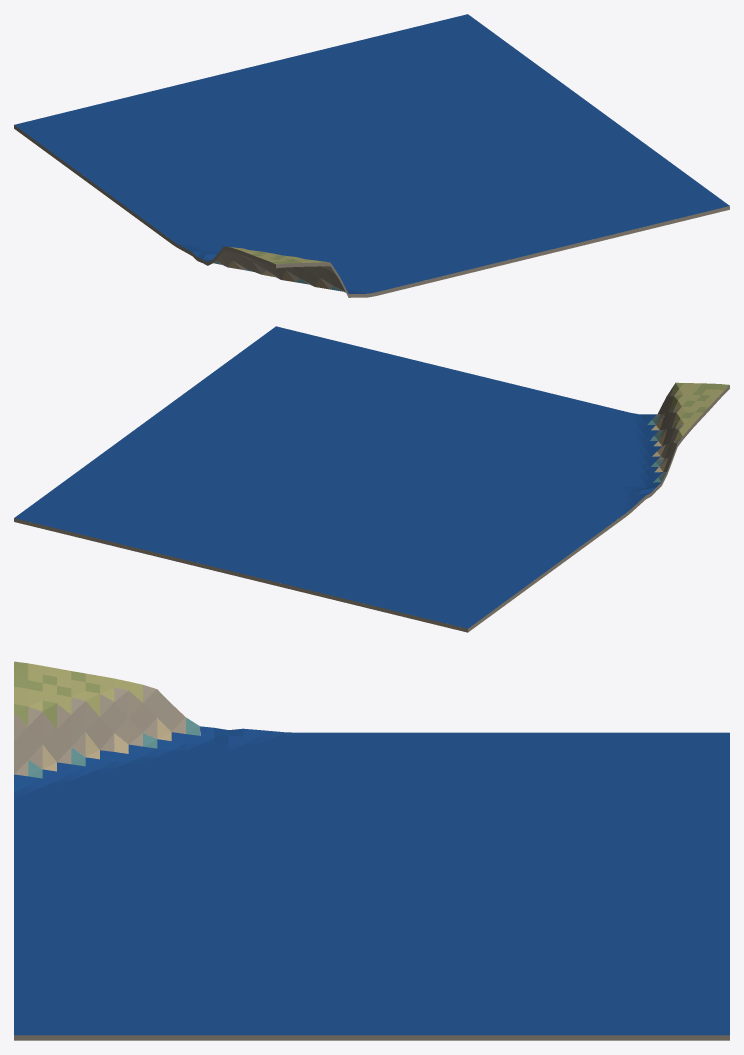
Rendered from parca_+12_+0-uzak.glb.
3 views of the same model, one above another, from view 1: azimuth 30°, elevation 25°; view 2: azimuth 150°, elevation 25°; view 3: azimuth 270°, elevation 25° (orthographic). The views are drawn at different scales.
Visible parts, largest first — view 1: parca_+12_+0_arazi_uzak; view 2: parca_+12_+0_arazi_uzak; view 3: parca_+12_+0_arazi_uzak.
Part boxes in pixels (x1=…): parca_+12_+0_arazi_uzak: x1=14, y1=14, x2=729, y2=297; parca_+12_+0_arazi_uzak: x1=14, y1=326, x2=729, y2=632; parca_+12_+0_arazi_uzak: x1=14, y1=661, x2=729, y2=1040.
Size of the model in its own units: 1000 by 118 by 1000.
